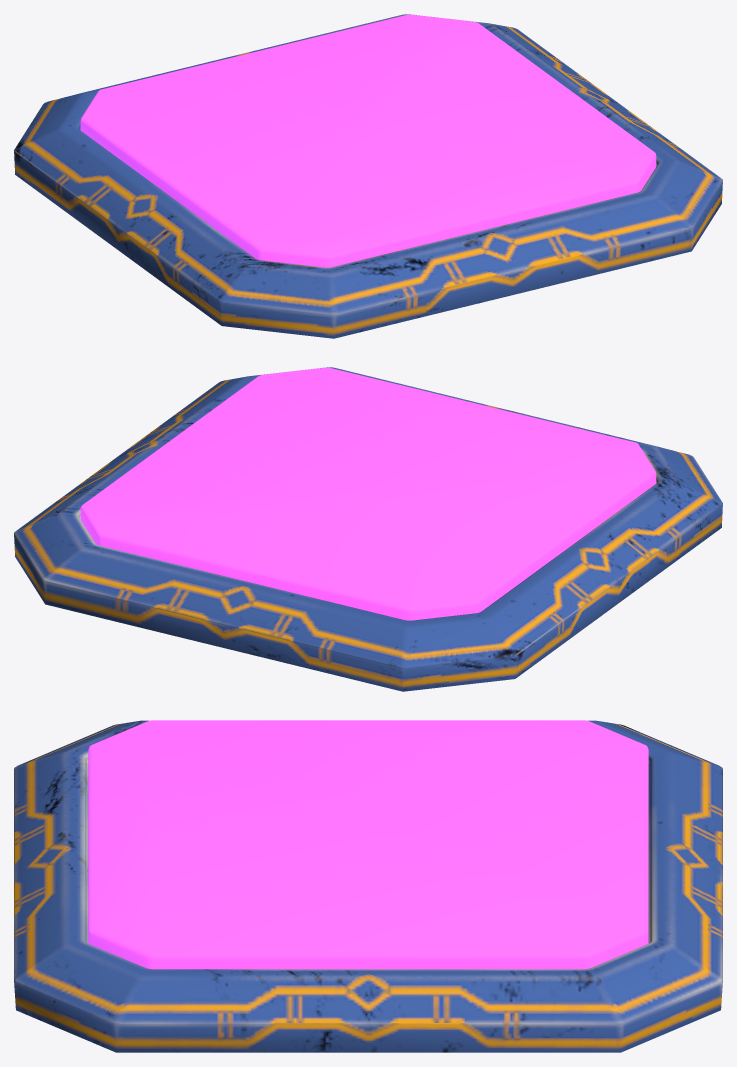
Rendered from PressurePlate.fbx.
3 views of the same model, one above another, from view 1: azimuth 30°, elevation 25°; view 2: azimuth 150°, elevation 25°; view 3: azimuth 270°, elevation 25° (orthographic). The views are drawn at different scales.
Parts seen in each view (by area): view 1: Plane; view 2: Plane; view 3: Plane.
Part boxes in pixels (x1,y1,x2,y2): Plane: [14, 14, 722, 338]; Plane: [14, 367, 722, 691]; Plane: [14, 720, 722, 1052].
Size of the model in its own units: 197 by 20.45 by 197.
